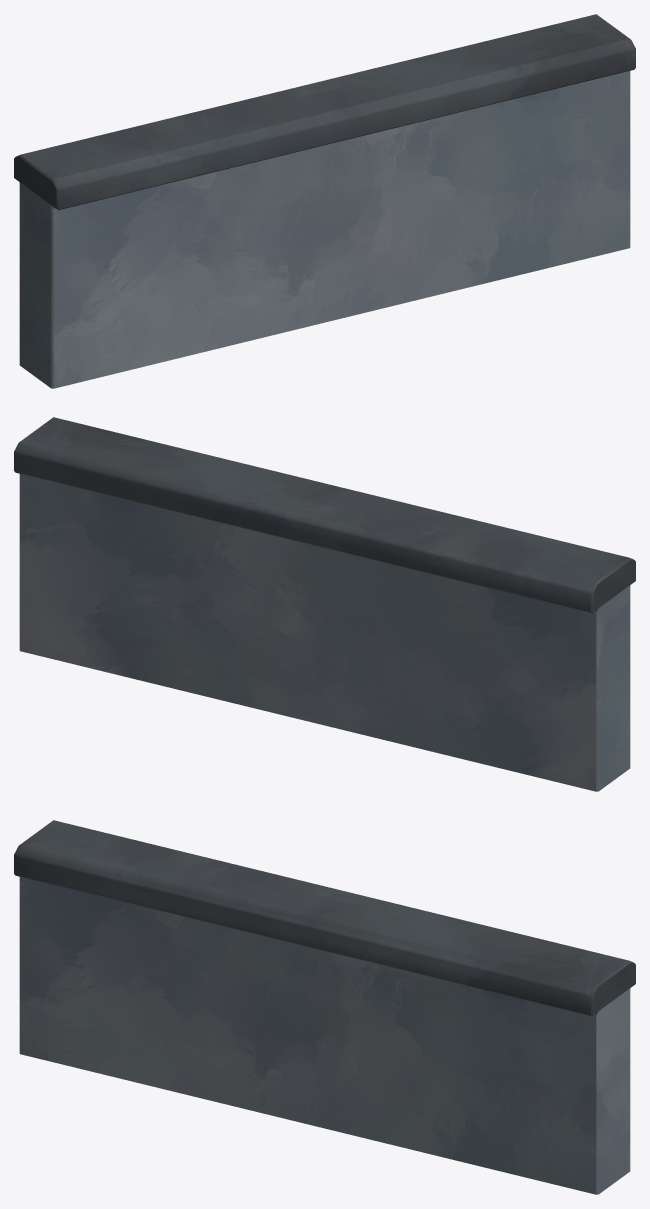
The model's file is Bottom of the fence.fbx.
3 renders of one model, top to bottom at view 1: azimuth 30°, elevation 25°; view 2: azimuth 150°, elevation 25°; view 3: azimuth 330°, elevation 25°, orthographic.
Parts seen in each view (by area): view 1: Bottom of the fence; view 2: Bottom of the fence; view 3: Bottom of the fence.
Boxes of the visible parts, bbox=[...] form: Bottom of the fence: bbox=[14, 14, 635, 388]; Bottom of the fence: bbox=[14, 417, 635, 791]; Bottom of the fence: bbox=[14, 820, 635, 1194].
Bounding box in the file's own units: 200 × 69.15 × 26.47.
